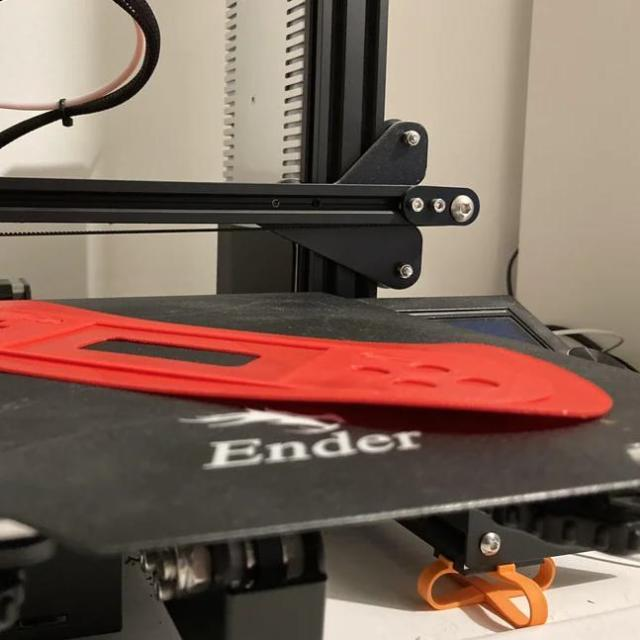Warping: (275, 391, 454, 419)
